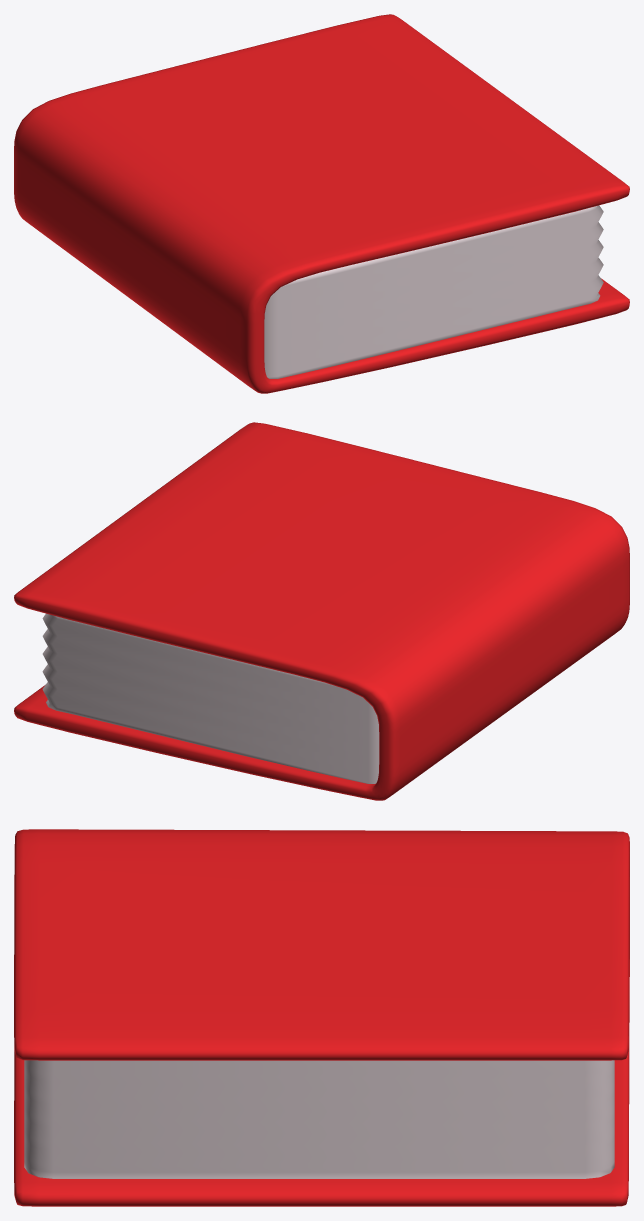
The model's file is kirja1.fbx.
3 views of the same model, one above another, from view 1: azimuth 30°, elevation 25°; view 2: azimuth 150°, elevation 25°; view 3: azimuth 270°, elevation 25° (orthographic). The views are drawn at different scales.
Visible parts, largest first — view 1: kirja, sivut; view 2: kirja, sivut; view 3: kirja, sivut.
Part boxes in pixels (x1,y1,x2,y2): kirja: (14,14,629,393); sivut: (264,205,603,378); kirja: (14,422,629,800); sivut: (42,613,379,783); kirja: (14,829,629,1206); sivut: (24,1060,614,1178).
Size of the model in its own units: 29.8 by 9.54 by 32.23.
